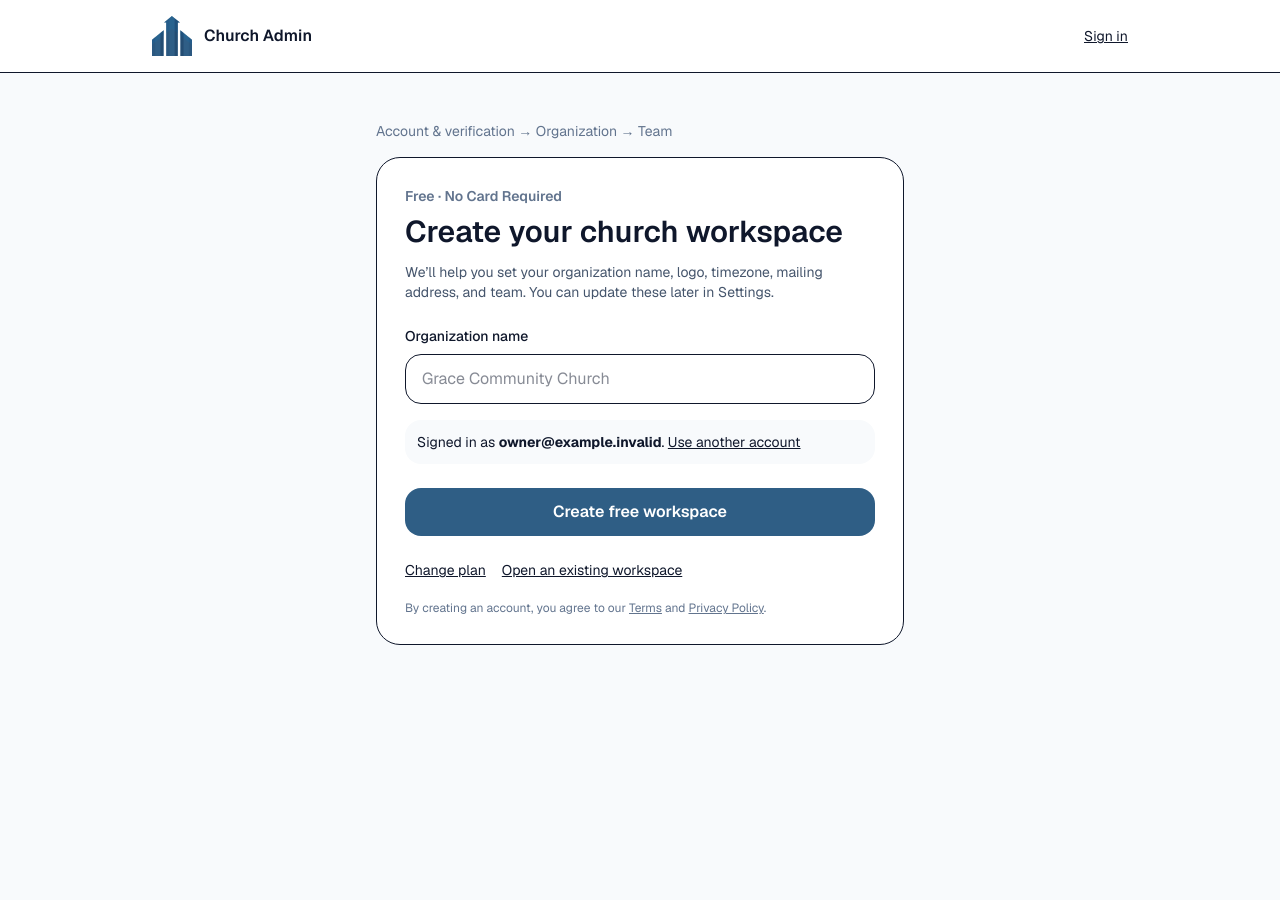
does not navigate when organization context cannot be applied
This screenshot has width=1280, height=900.
In the field labelled "Organization name": coordinates (640, 379) [405,354,875,404], type "Grace Church"
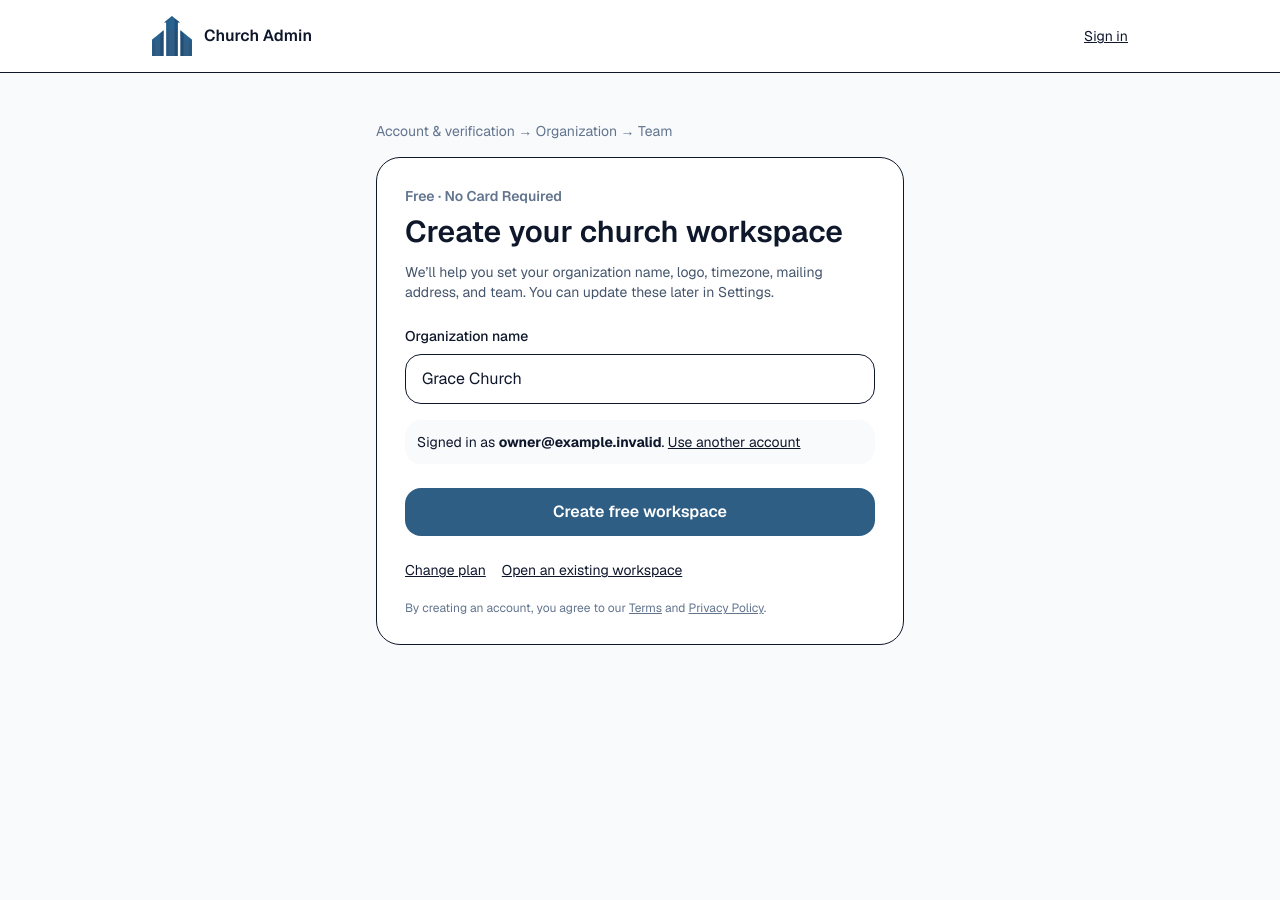
Click the button "Create free workspace": coordinates (640, 512) [405,488,875,536]
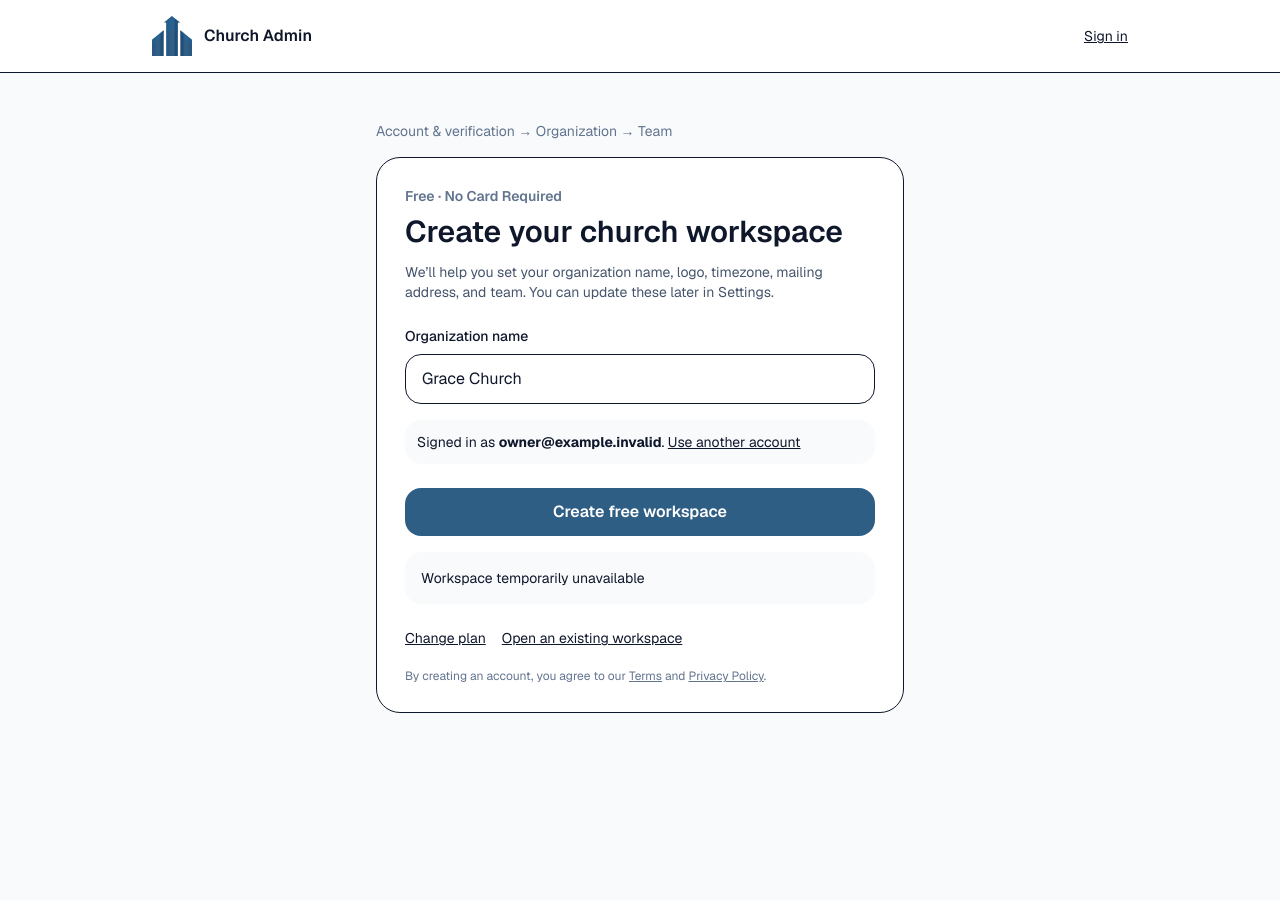
Now the text "Workspace temporarily unavailable" is shown, box [405,552,875,604]
